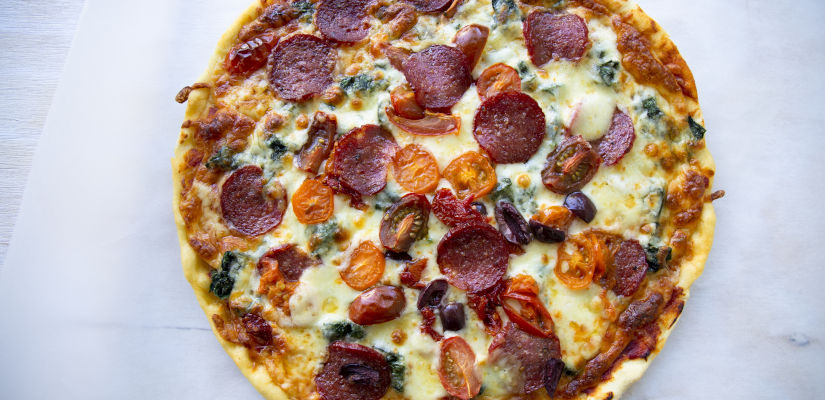Pepperoni: (471, 91, 552, 164), (487, 324, 563, 396), (399, 45, 476, 114), (326, 122, 400, 192), (270, 32, 341, 104), (214, 166, 286, 236), (438, 224, 512, 292), (317, 337, 392, 400), (520, 10, 592, 66), (601, 234, 646, 294), (258, 242, 320, 283), (592, 113, 637, 167), (318, 2, 373, 37), (396, 0, 457, 9)
Pizza: (171, 0, 718, 400)
